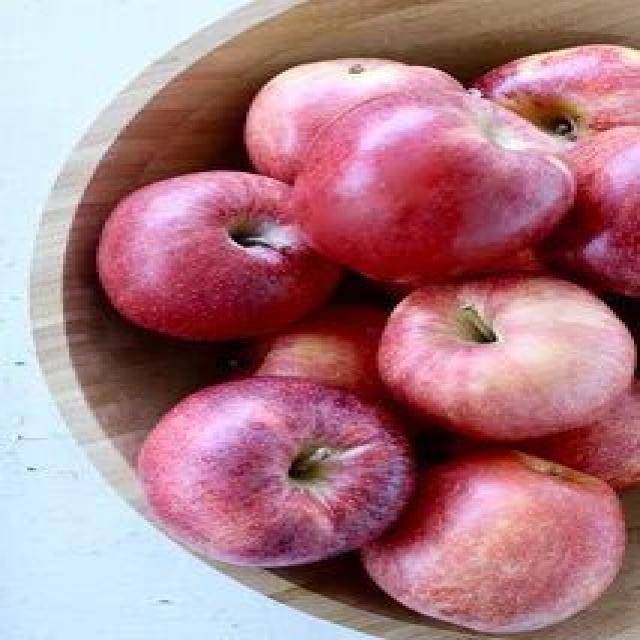Fresh Apple: (295, 90, 558, 288), (365, 448, 618, 638), (142, 380, 402, 563), (92, 168, 340, 344), (382, 273, 623, 432)
